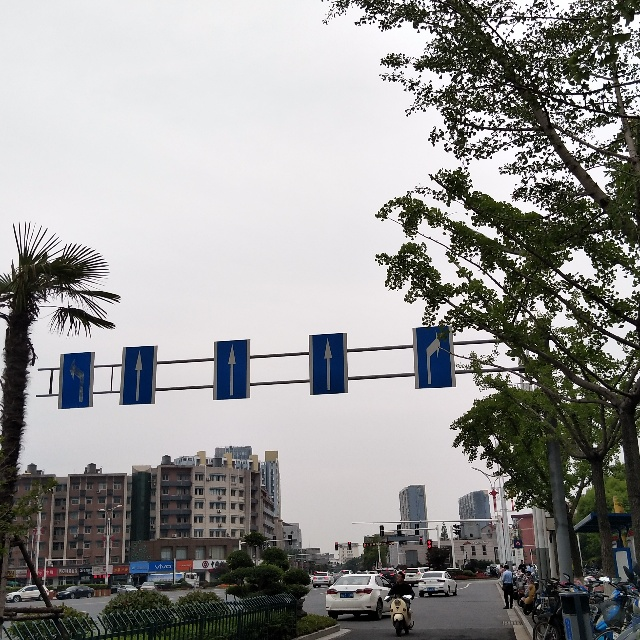left: (56, 346, 98, 412)
right: (412, 323, 459, 393)
straight: (210, 338, 253, 401), (308, 332, 351, 395), (121, 342, 154, 408)
